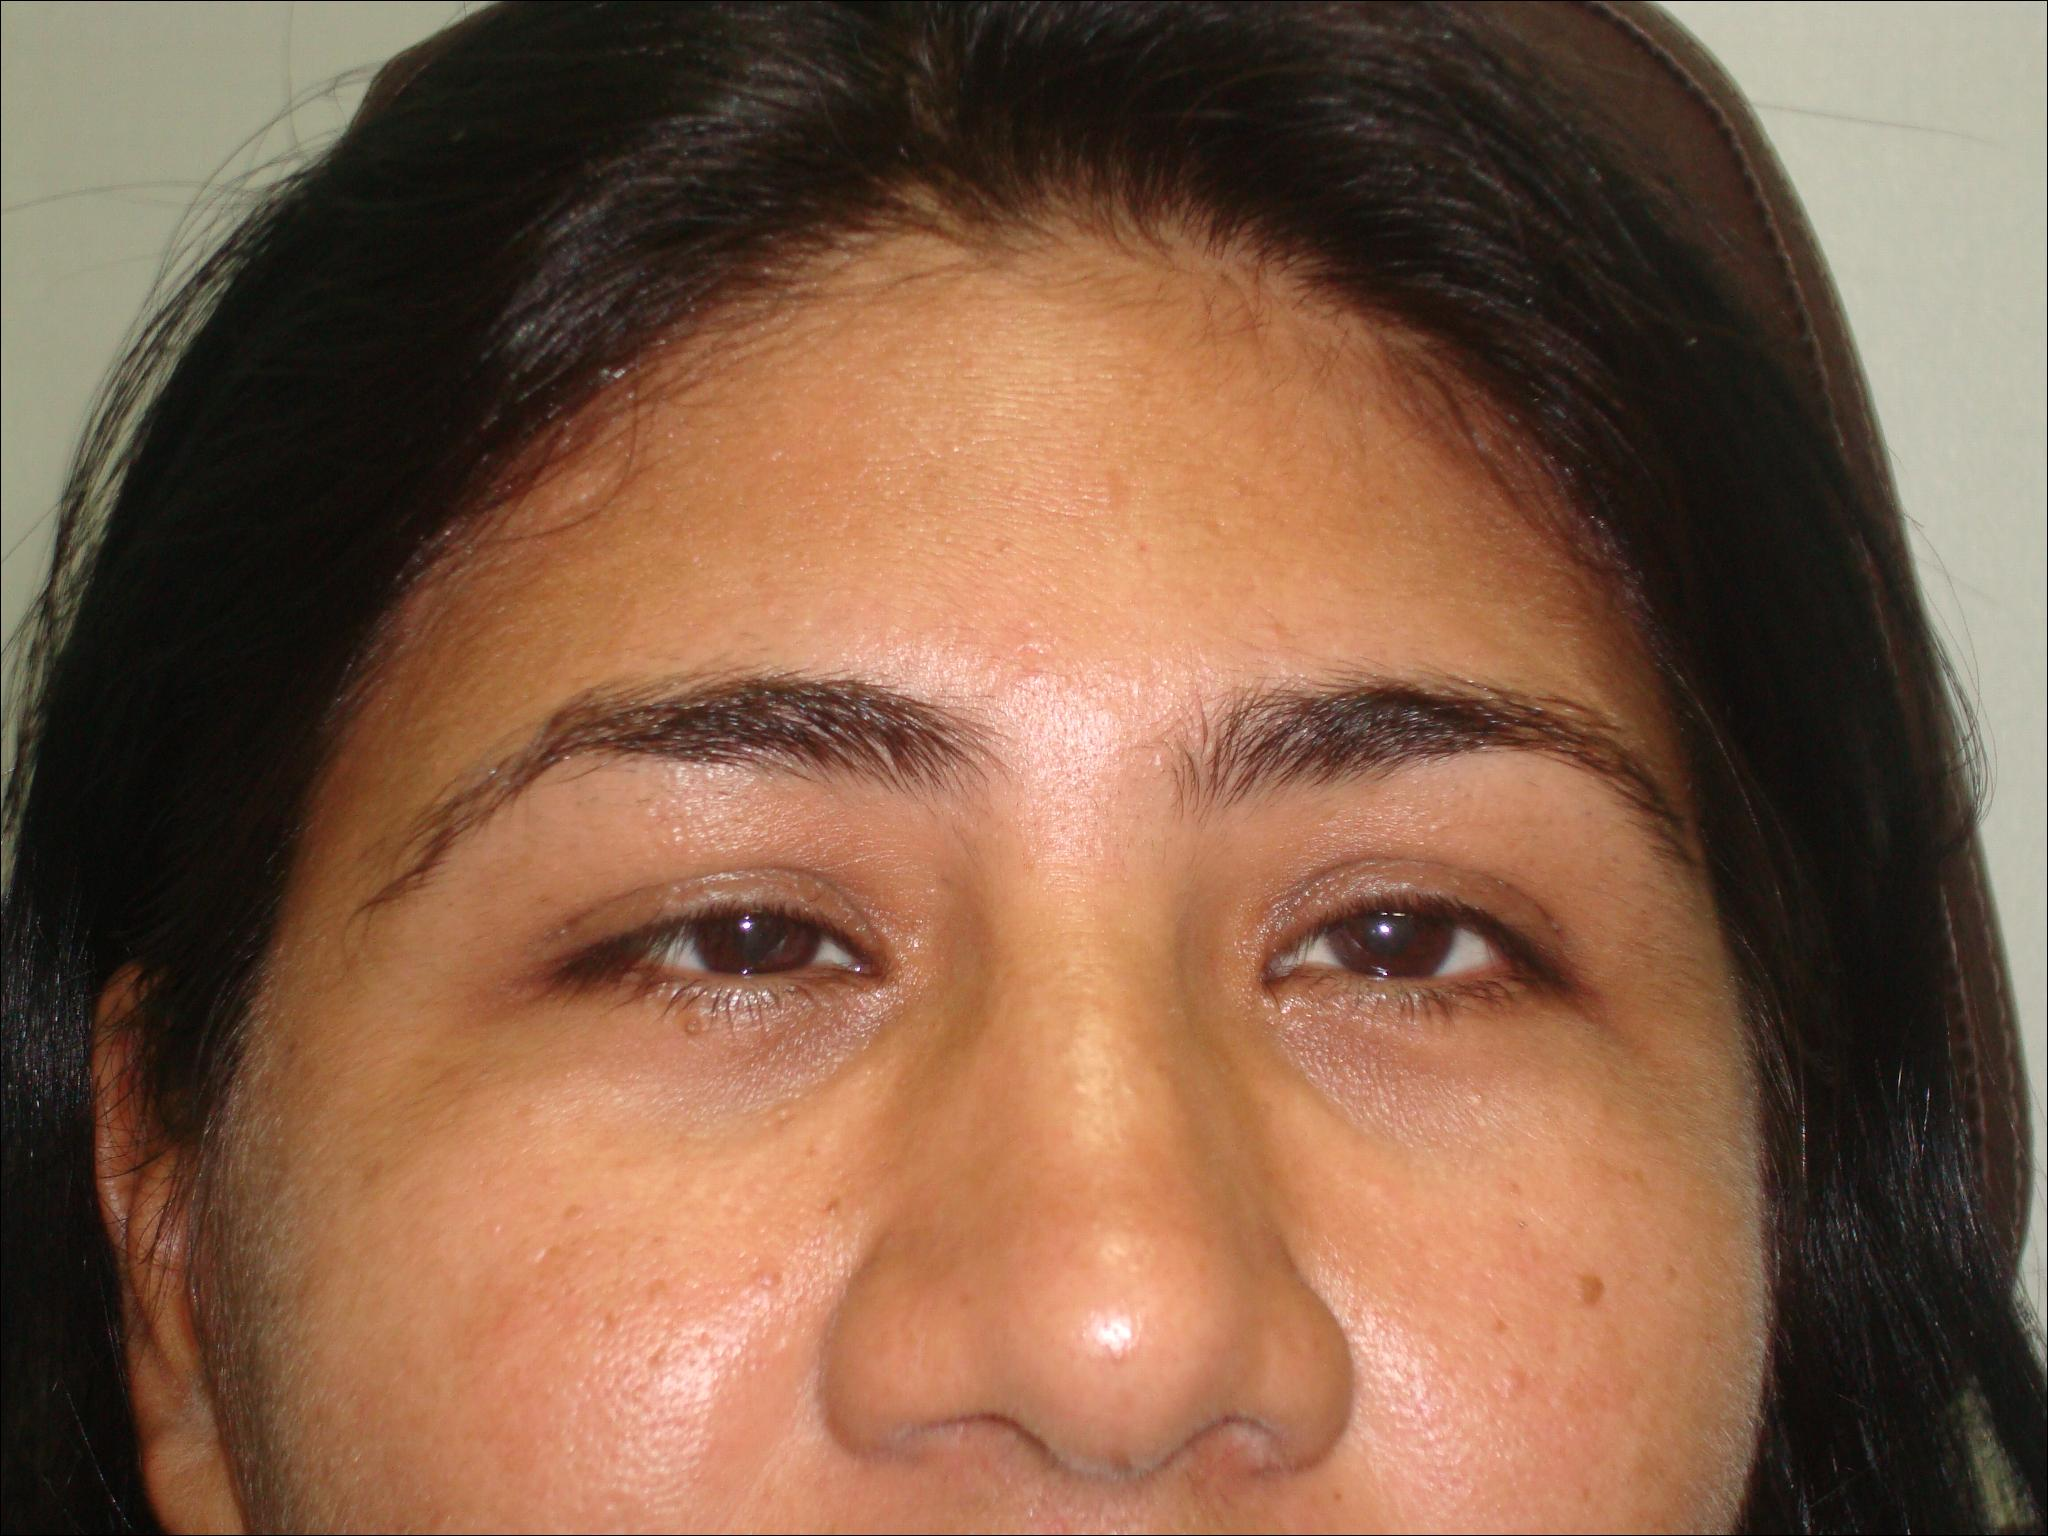flash: (1376, 918, 1395, 941), (739, 916, 755, 934)
limbo: (1327, 878, 1448, 987), (689, 879, 811, 986)
